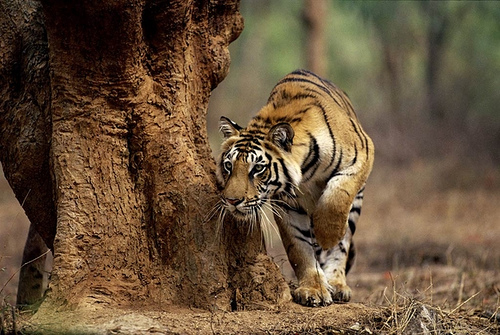Tigre: (214, 54, 392, 278)
